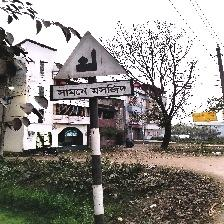Mosque in front: (52, 32, 132, 101)
